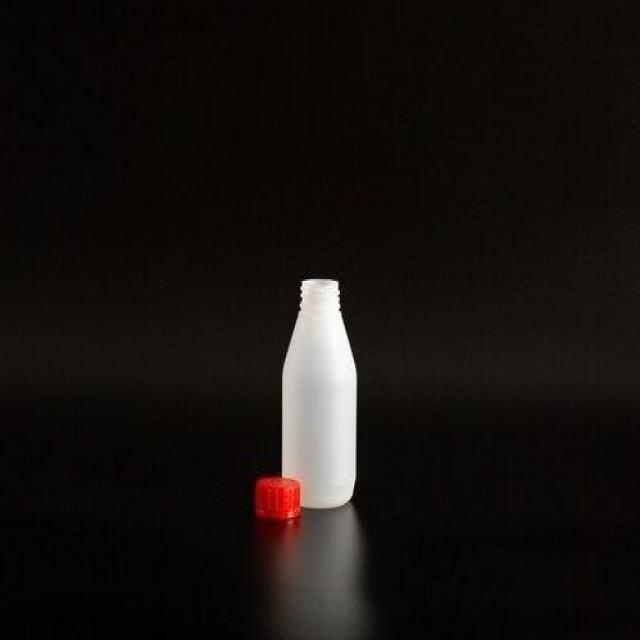bottle-plastic: (277, 274, 362, 512)
